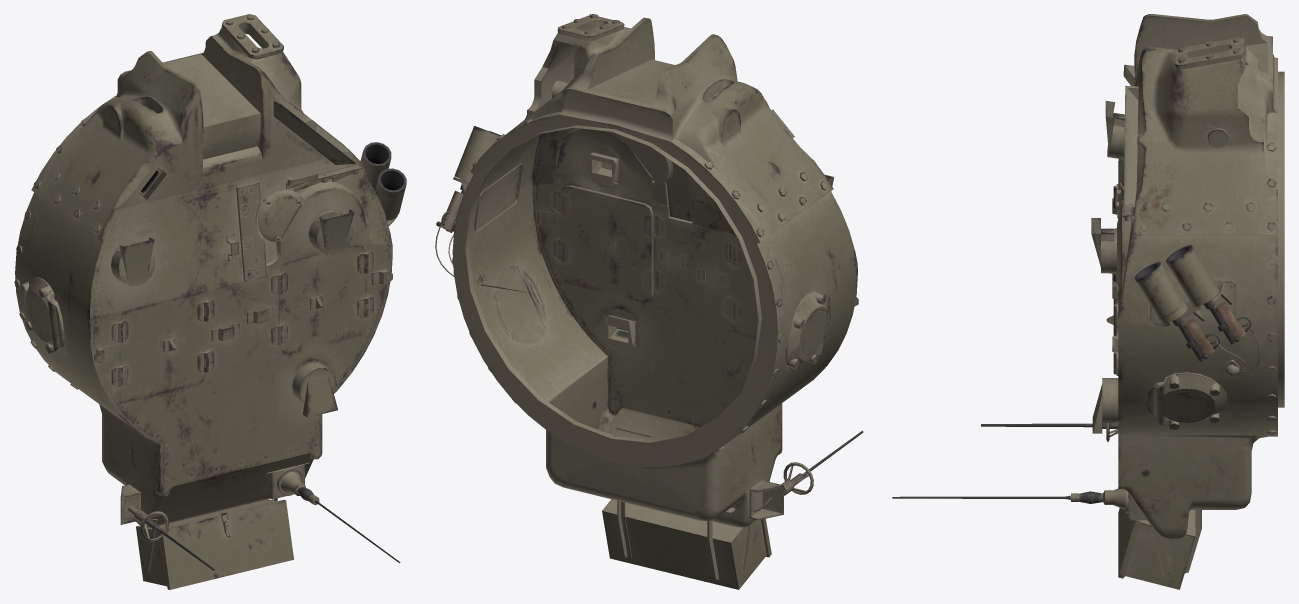
Rendered from Turret_02.glb.
The picture shows the model from 3 angles, left to right: view 1: azimuth 30°, elevation 25°; view 2: azimuth 150°, elevation 25°; view 3: azimuth 270°, elevation 25°; orthographic projection. The views are drawn at different scales.
Visible parts, largest first — view 1: set_0_group_0; view 2: set_0_group_0; view 3: set_0_group_0.
Boxes of the visible parts, x1=… form: set_0_group_0: x1=14, y1=14, x2=406, y2=589; set_0_group_0: x1=435, y1=14, x2=863, y2=589; set_0_group_0: x1=892, y1=14, x2=1284, y2=589.
Bounding box in the file's own units: 1.71 × 2.42 × 1.57.
1 material, 1 textured.
